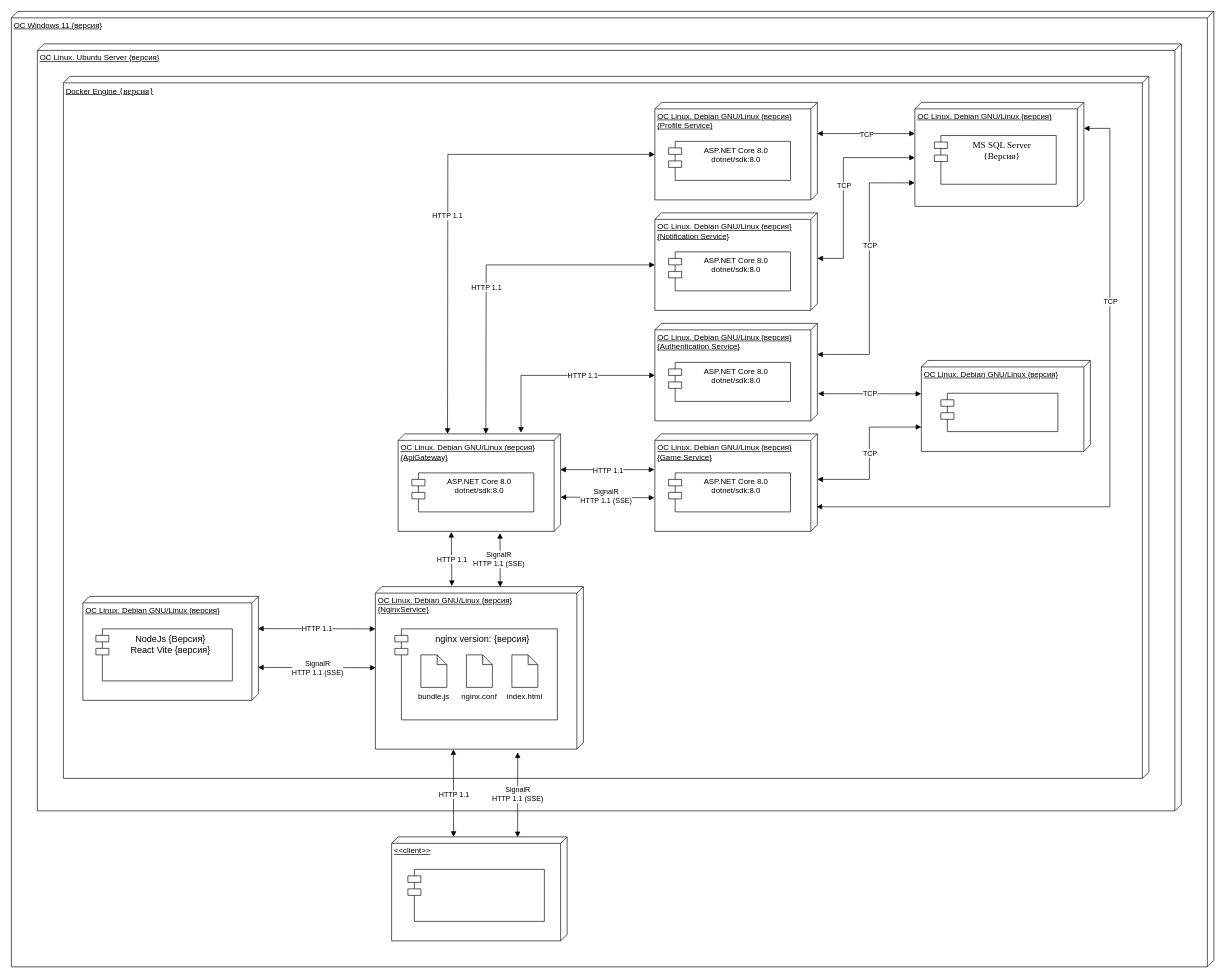
Some shapes in this 1225 by 978 pixel diagram are drawn without their labels. The shapes that lost their labels are listed below. From the top down, each one's centre as x and y in pixels, then its label:
At pixel 999 412: "Redis {Версия}".
At pixel 475 895: "<<web-browser>> Microsoft Edge {версия}".
